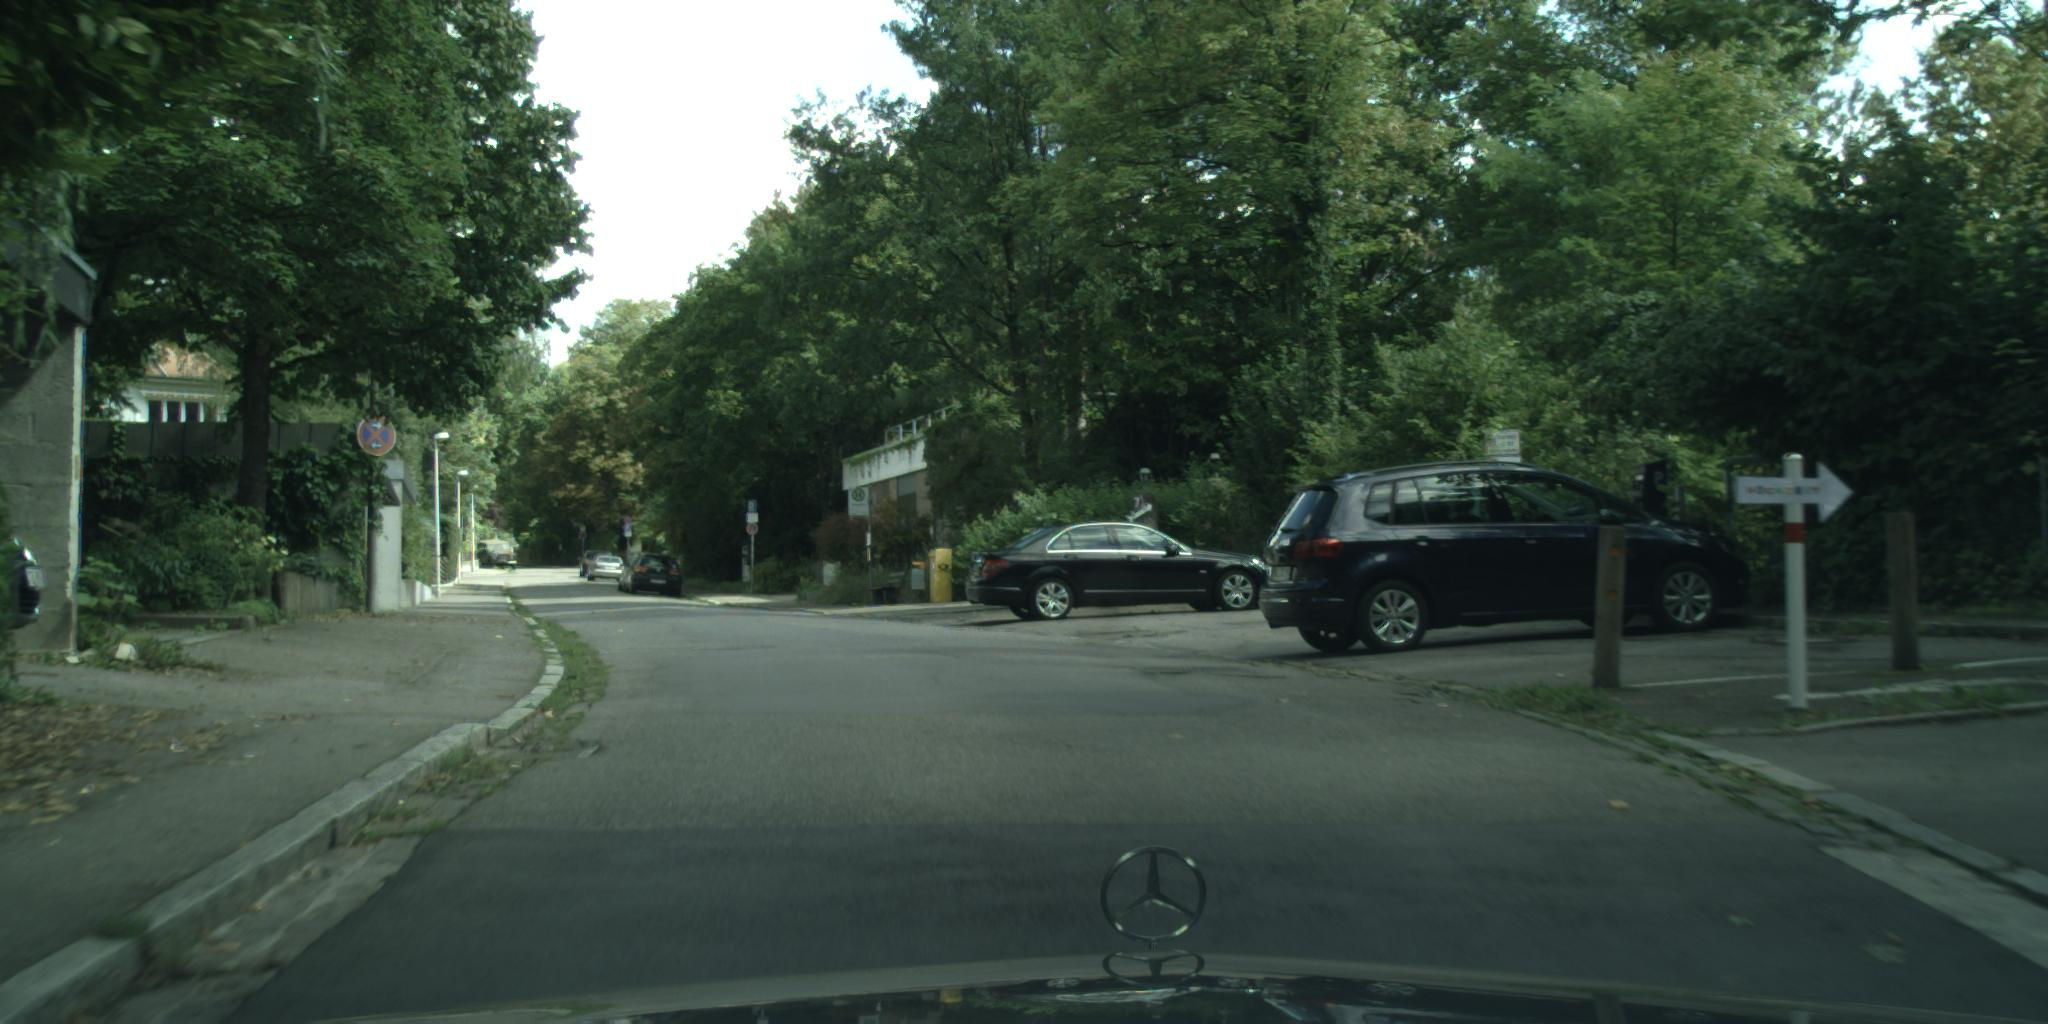car: (1260, 461, 1752, 654), (967, 522, 1272, 623), (1, 528, 44, 632), (619, 552, 683, 598), (478, 539, 517, 569), (589, 556, 627, 584), (579, 551, 613, 579)
